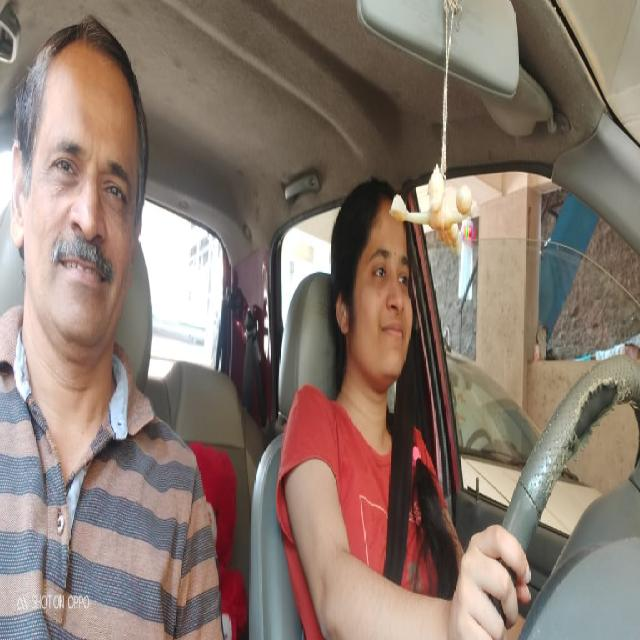person: (18, 50, 142, 347), (336, 184, 416, 383)
